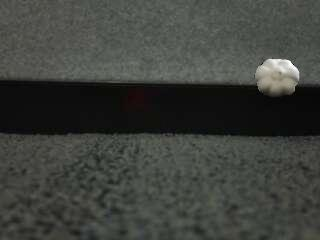Garlic: (256, 58, 302, 98)
